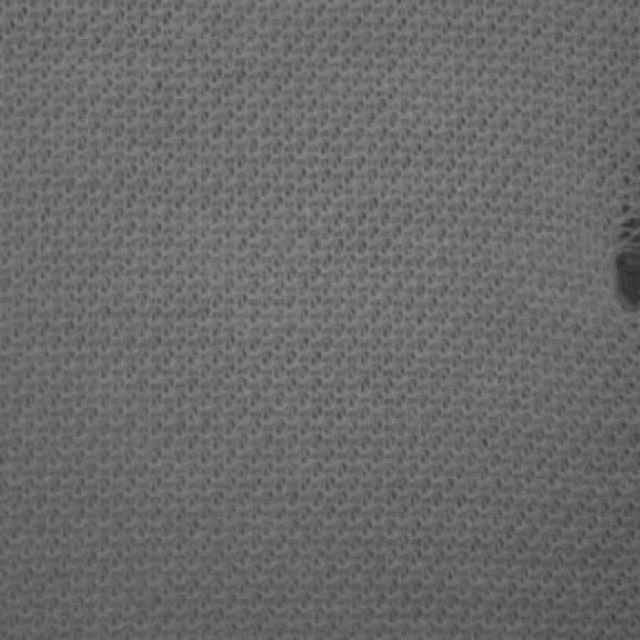Hole: (615, 207, 640, 311)
